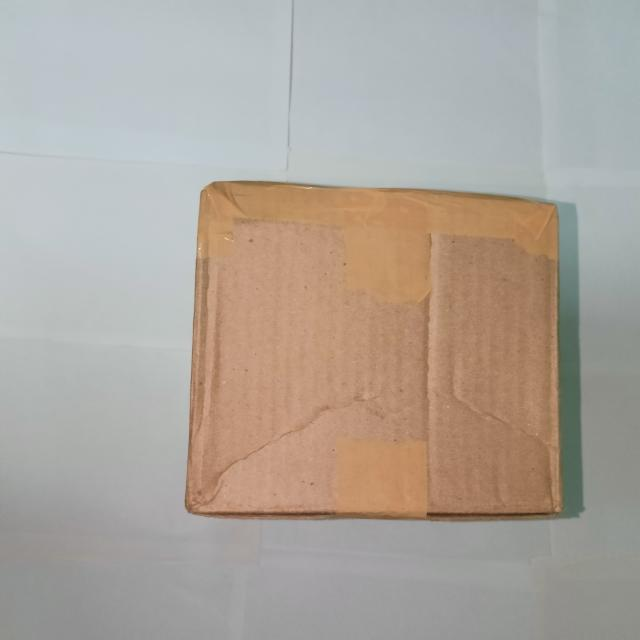box: (186, 184, 565, 514)
